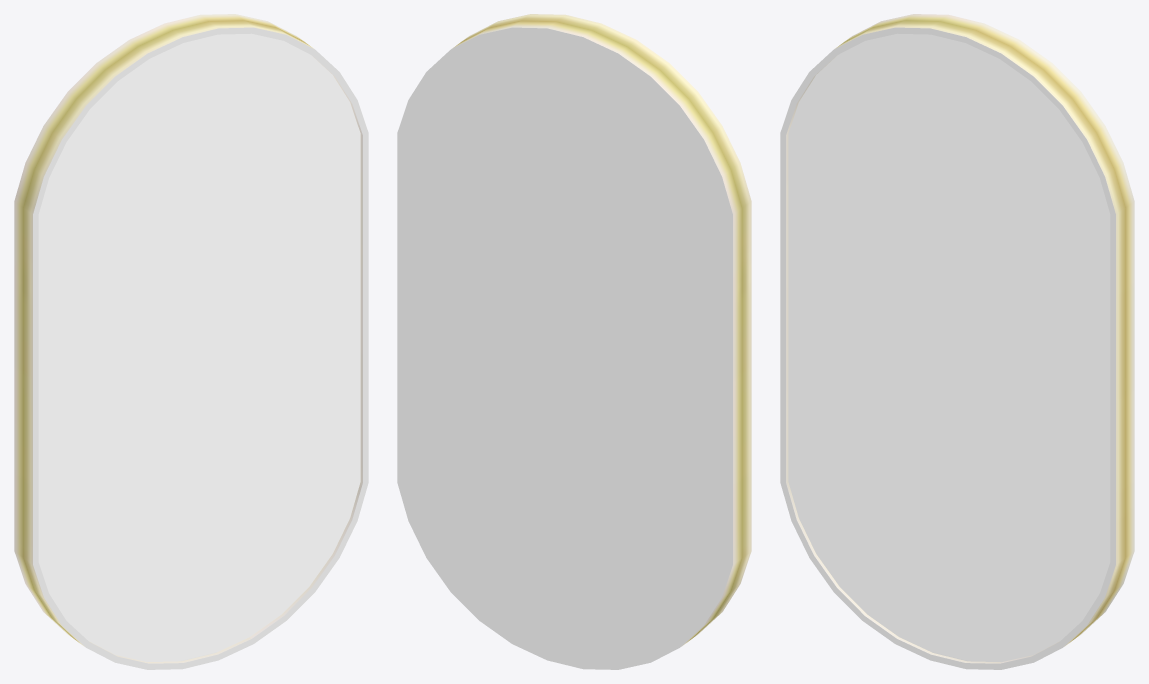
Rendered from led-mirror--1.gltf.
3 views of the same model, side by side, from view 1: azimuth 30°, elevation 25°; view 2: azimuth 150°, elevation 25°; view 3: azimuth 330°, elevation 25° (orthographic).
Visible parts, largest first — view 1: LED_Mirror_01; view 2: LED_Mirror_01; view 3: LED_Mirror_01.
Boxes of the visible parts, box(x1,y1,x2,y2) form: LED_Mirror_01: box(14, 14, 368, 669); LED_Mirror_01: box(397, 14, 751, 669); LED_Mirror_01: box(780, 14, 1134, 669).
Bounding box in the file's own units: 0.694 × 1.25 × 0.0666.
Materials: 1 (1 with a texture image).
